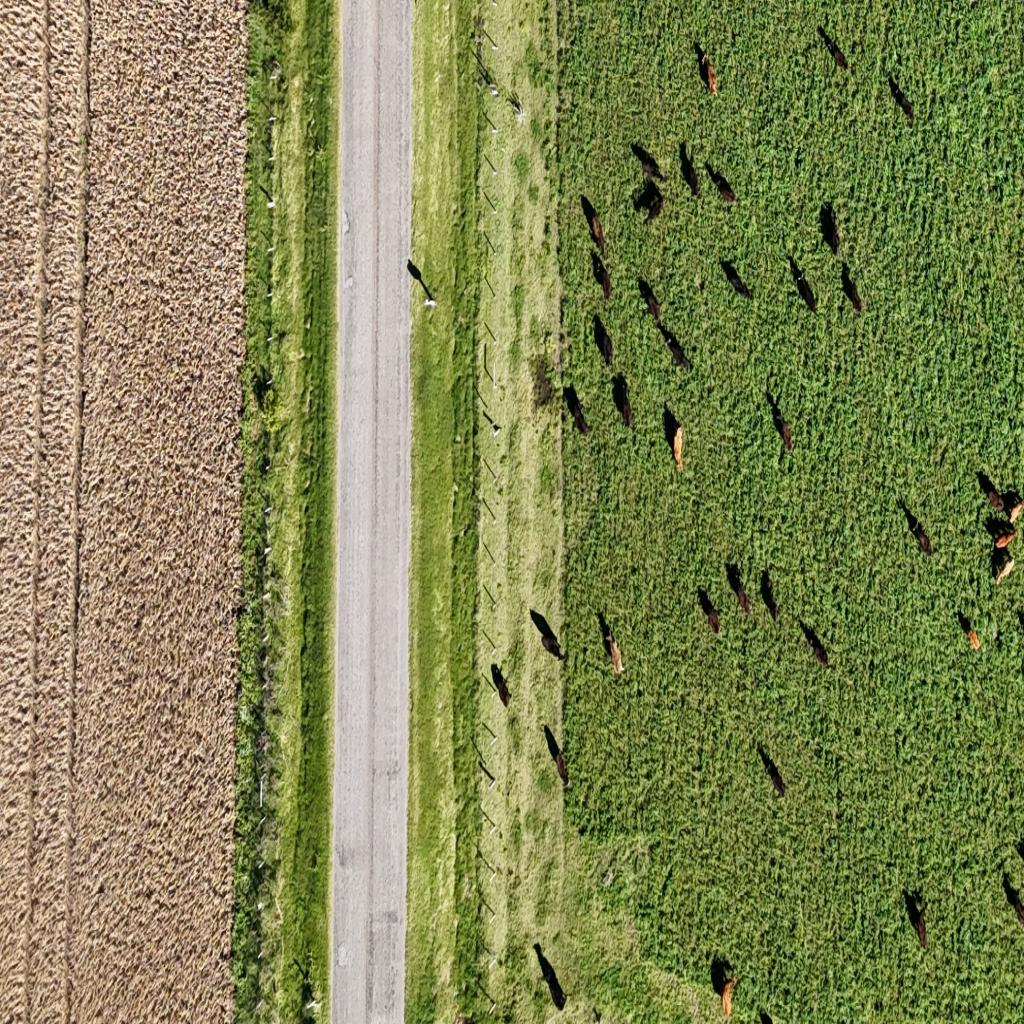cow: (533, 943, 566, 1009), (581, 196, 608, 264), (711, 955, 739, 1020), (532, 609, 566, 662), (901, 502, 934, 556), (768, 392, 795, 456), (1000, 861, 1024, 930), (788, 256, 817, 313), (600, 614, 625, 679), (544, 725, 570, 787), (664, 406, 688, 470), (661, 324, 692, 372), (691, 41, 717, 98), (800, 618, 830, 667), (563, 382, 590, 436), (887, 72, 915, 124), (760, 744, 786, 799), (721, 258, 753, 302), (635, 178, 664, 225), (727, 564, 753, 616), (904, 889, 927, 946), (978, 470, 1009, 512), (632, 142, 664, 181), (612, 374, 634, 430), (821, 200, 842, 258), (987, 517, 1016, 559), (679, 144, 700, 198), (842, 264, 864, 314), (592, 315, 613, 367), (698, 588, 721, 635), (709, 168, 737, 205), (640, 278, 662, 324), (761, 568, 779, 624), (491, 661, 512, 707), (992, 543, 1015, 583), (826, 37, 849, 74), (962, 614, 982, 654), (1001, 490, 1023, 520), (766, 386, 782, 416), (759, 1008, 773, 1024)
